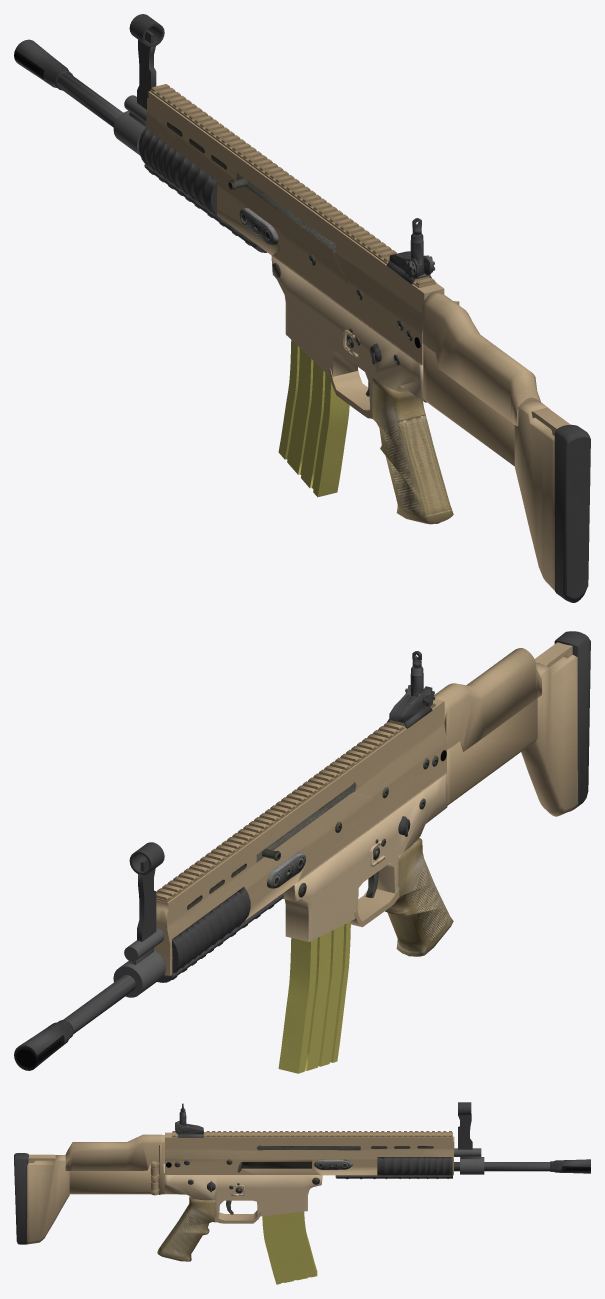
Rendered from scar_world.fbx.
3 renders of one model, top to bottom at view 1: azimuth 30°, elevation 25°; view 2: azimuth 150°, elevation 25°; view 3: azimuth 270°, elevation 25°, orthographic. The views are drawn at different scales.
Parts seen in each view (by area): view 1: scar_upperbody, scar_frontstock, scar_lowerbody, scar_clip, scar_pistolgrip, scar_stockpad, scar_rearstock, scar_rail, scar_grip, scar_barrel, scar_barrelholder, scar_triggerguard (+4 smaller); view 2: scar_upperbody, scar_frontstock, scar_lowerbody, scar_clip, scar_rearstock, scar_rail, scar_pistolgrip, scar_grip, scar_barrel, scar_stockpad, scar_barrelholder, scar_sightpost (+6 smaller); view 3: scar_upperbody, scar_frontstock, scar_lowerbody, scar_rearstock, scar_clip, scar_pistolgrip, scar_grip, scar_rail, scar_barrel, scar_stockpad, scar_bolt, scar_barrelholder (+5 smaller).
Part boxes in pixels (x1,y1,x2,y2): scar_upperbody: (145,91,444,365); scar_frontstock: (422,291,540,465); scar_lowerbody: (271,255,427,418); scar_clip: (278,340,349,497); scar_pistolgrip: (372,377,453,524); scar_stockpad: (554,424,590,602); scar_rearstock: (514,400,570,590); scar_rail: (150,84,436,287); scar_grip: (138,128,266,252); scar_barrel: (14,39,123,127); scar_barrelholder: (113,95,146,155); scar_triggerguard: (328,368,372,418); scar_upperbody: (154,699,446,975); scar_frontstock: (433,648,541,805); scar_lowerbody: (282,772,447,941); scar_clip: (278,921,350,1073); scar_rearstock: (521,642,577,816); scar_rail: (156,701,435,902); scar_pistolgrip: (385,838,453,956); scar_grip: (157,887,284,982); scar_barrel: (14,956,164,1070); scar_stockpad: (554,631,590,811); scar_barrelholder: (113,928,165,997); scar_sightpost: (137,868,156,941); scar_upperbody: (165,1132,454,1175); scar_frontstock: (65,1134,164,1194); scar_lowerbody: (164,1173,322,1222); scar_rearstock: (27,1154,69,1243); scar_clip: (262,1211,317,1284); scar_pistolgrip: (157,1196,215,1261); scar_grip: (336,1157,452,1179); scar_rail: (172,1131,452,1137); scar_barrel: (454,1159,590,1173); scar_stockpad: (14,1153,28,1244); scar_bolt: (242,1145,360,1168); scar_barrelholder: (454,1148,484,1174).
Bounding box in the file's own units: 2.53 × 14.35 × 41.85.
